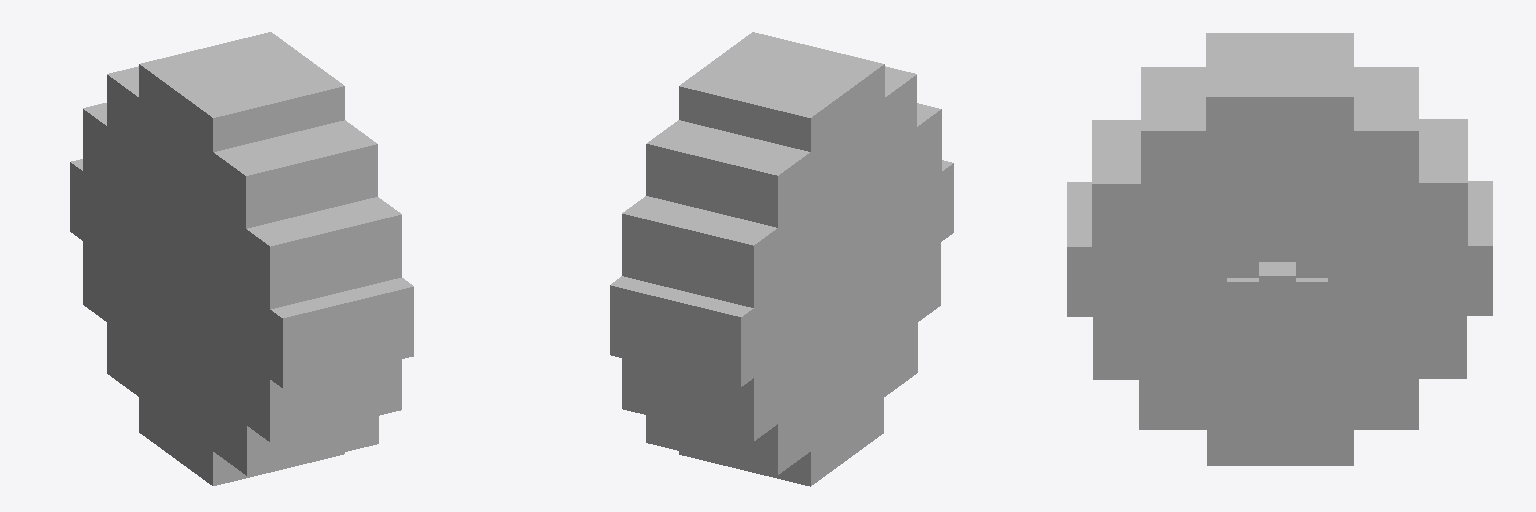
File: rueda Carrito.obj
The picture shows the model from 3 angles: view 1: azimuth 30°, elevation 25°; view 2: azimuth 150°, elevation 25°; view 3: azimuth 270°, elevation 25°; orthographic projection.
Visible parts, largest first — view 1: Box1420; view 2: Box1420; view 3: Box1420.
Boxes of the visible parts, x1=… form: Box1420: x1=70, y1=32, x2=413, y2=485; Box1420: x1=610, y1=32, x2=953, y2=486; Box1420: x1=1067, y1=33, x2=1492, y2=465.
Bounding box in the file's own units: 0.9396 × 2.08 × 2.17.